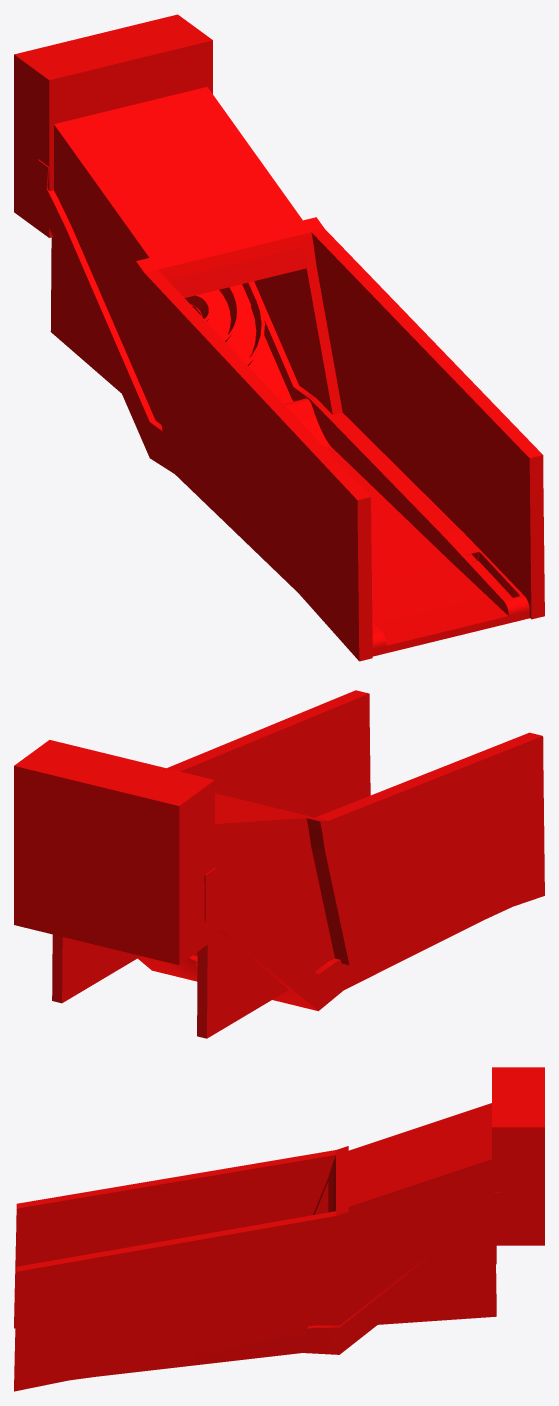
The model's file is skeeball_table_collision.FBX.
The picture shows the model from 3 angles, top to bottom: view 1: azimuth 30°, elevation 25°; view 2: azimuth 150°, elevation 25°; view 3: azimuth 270°, elevation 25°; orthographic projection. The views are drawn at different scales.
Parts seen in each view (by area): view 1: skeeball_collision; view 2: skeeball_collision; view 3: skeeball_collision.
Part boxes in pixels (x1,y1,x2,y2): skeeball_collision: (14, 14, 544, 661); skeeball_collision: (14, 690, 544, 1038); skeeball_collision: (14, 1067, 544, 1391).
Bounding box in the file's own units: 116 × 206 × 381.
